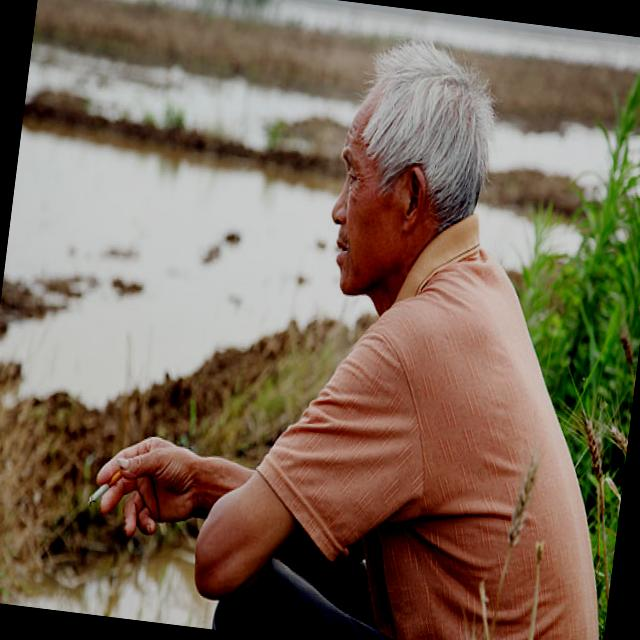cigarette: (84, 477, 110, 508)
